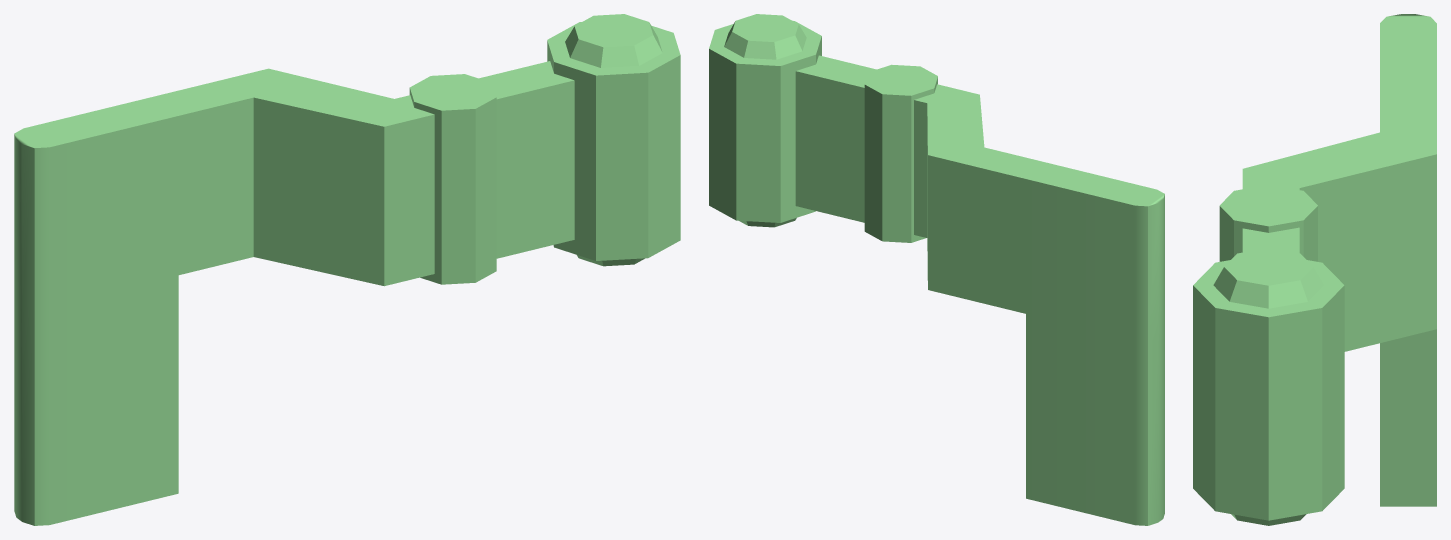
The model's file is PortaTrava.fbx.
3 renders of one model, left to right at view 1: azimuth 30°, elevation 25°; view 2: azimuth 150°, elevation 25°; view 3: azimuth 270°, elevation 25°, orthographic. The views are drawn at different scales.
Visible parts, largest first — view 1: PortaTrava; view 2: PortaTrava; view 3: PortaTrava.
Part boxes in pixels (box(x1,y1,x2,y2)): PortaTrava: box(14, 14, 680, 525); PortaTrava: box(709, 14, 1164, 525); PortaTrava: box(1193, 14, 1436, 525).
Bounding box in the file's own units: 20.62 × 13.55 × 6.72.
